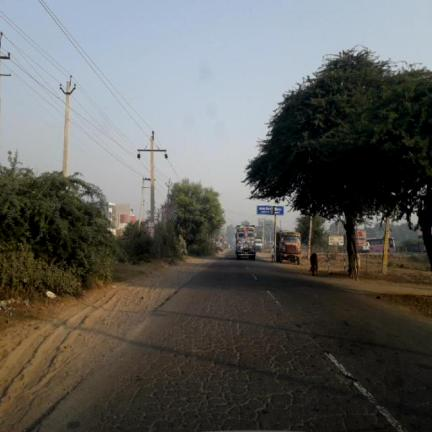Road: (30, 256, 431, 431)
